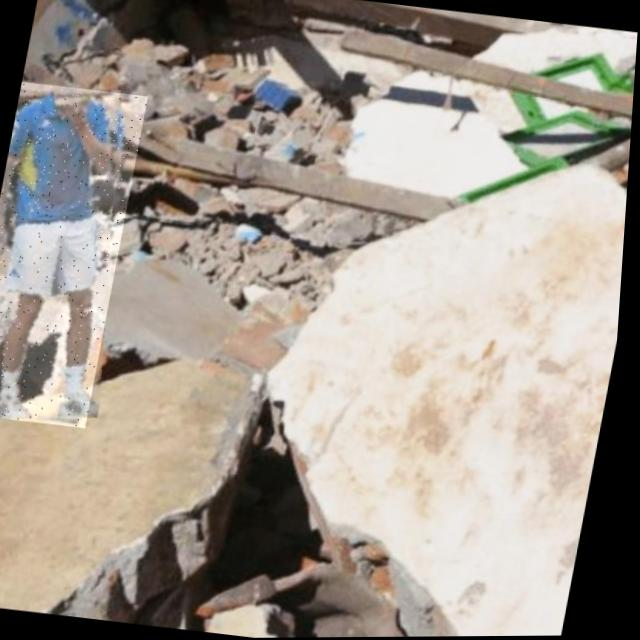Person in Rubble: (0, 80, 150, 428)
